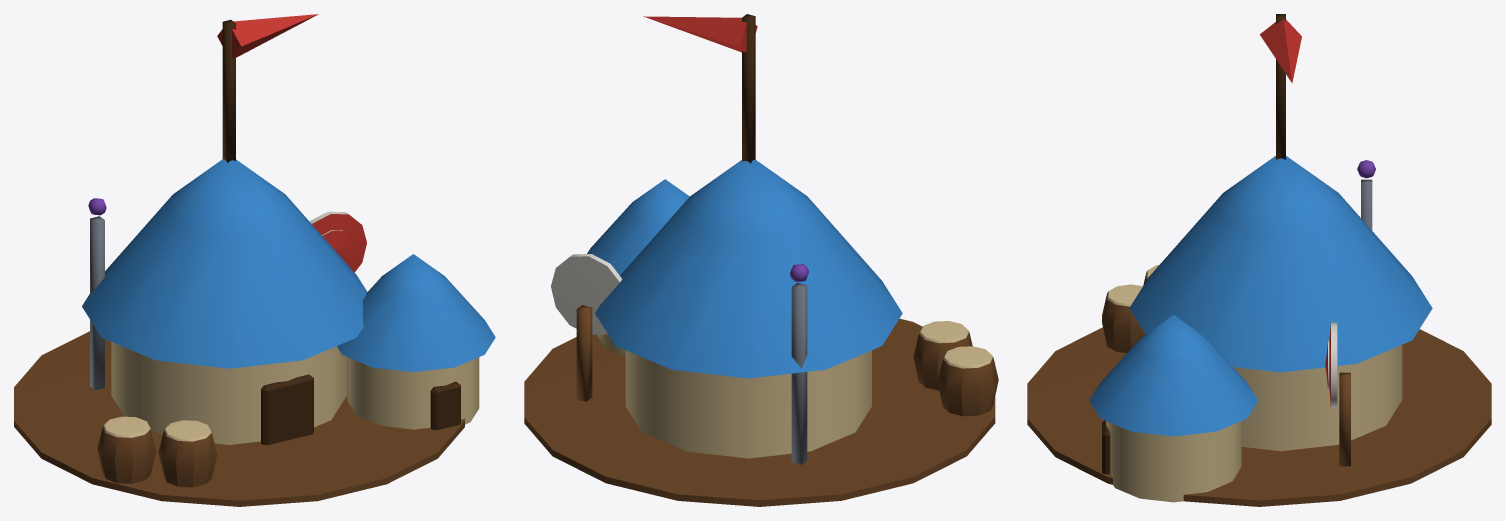
3 views of the same model, side by side, from view 1: azimuth 30°, elevation 25°; view 2: azimuth 150°, elevation 25°; view 3: azimuth 270°, elevation 25° (orthographic). The views are drawn at different scales.
Parts seen in each view (by area): view 1: vila_0_base, vila_1_torreta; view 2: vila_0_base, vila_1_torreta; view 3: vila_0_base, vila_1_torreta.
Part boxes in pixels (x1,y1,x2,y2): vila_0_base: (14, 159, 495, 506); vila_1_torreta: (217, 14, 318, 162); vila_0_base: (524, 159, 998, 506); vila_1_torreta: (643, 14, 757, 163); vila_0_base: (1027, 156, 1491, 506); vila_1_torreta: (1260, 14, 1301, 159).
Size of the model in its own units: 1.34 by 1.21 by 1.3.
